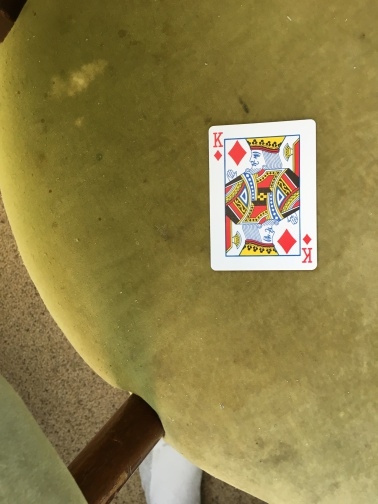king: (206, 117, 319, 272)
